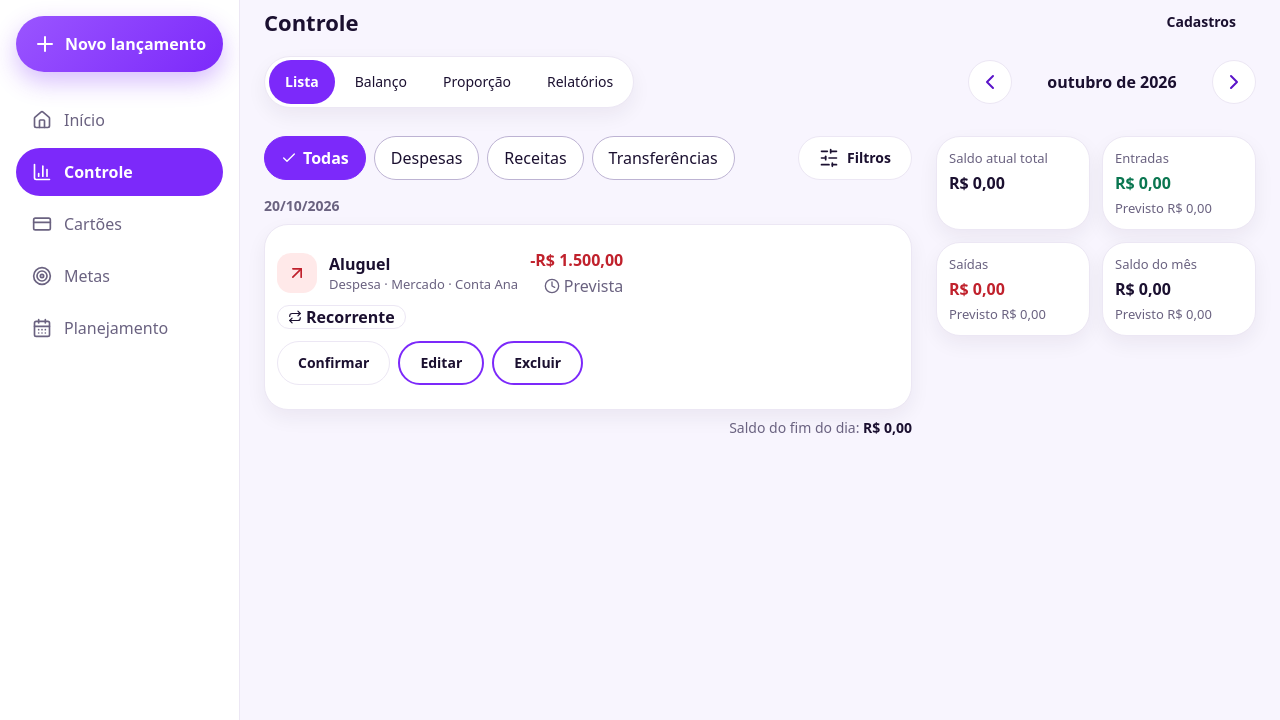
it: troca de sheets: diálogo de alcance -> formulário (histórico real) › Esc fecha o formulário depois da troca de sheets
expect the text "Aluguel" is shown: met, box 329,253 -> 390,275
Click the button "Editar" at (441, 363), box 398,341 -> 484,385
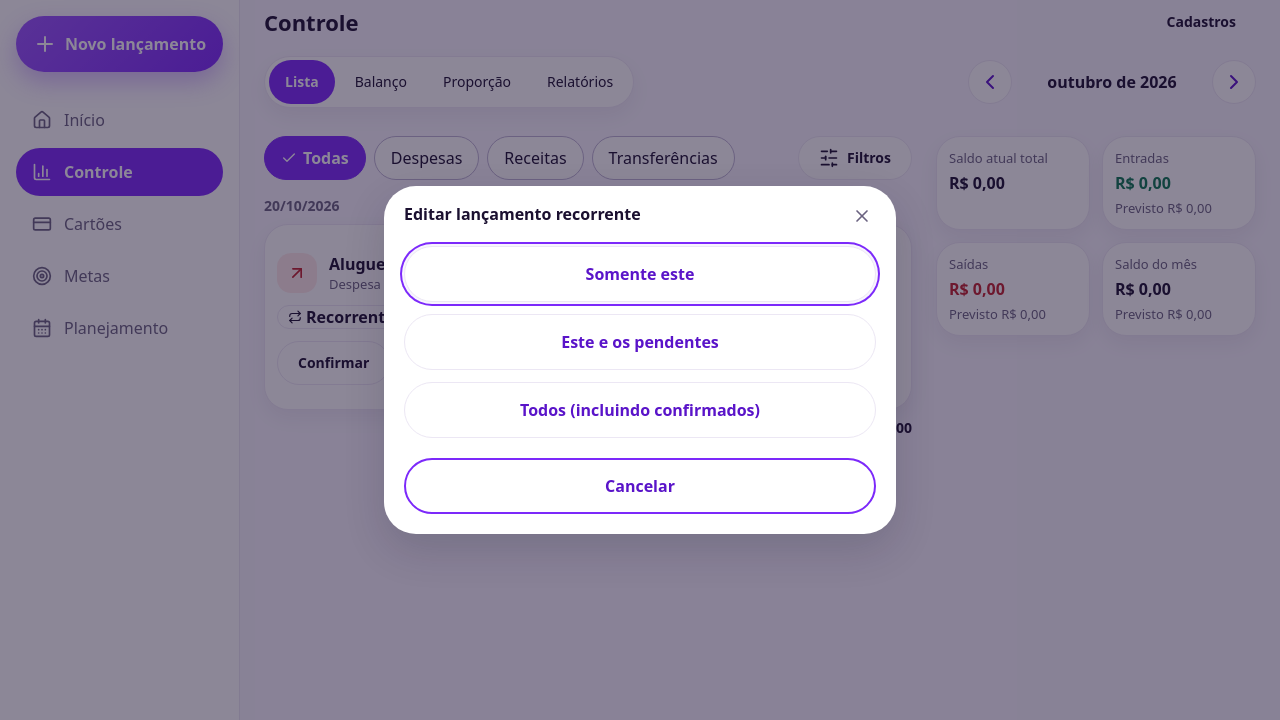
expect the dialog "Editar lançamento recorrente" is shown: met, box 384,186 -> 896,534
Click the button "Todos (incluindo confirmados)" at (640, 410), box 404,382 -> 876,438
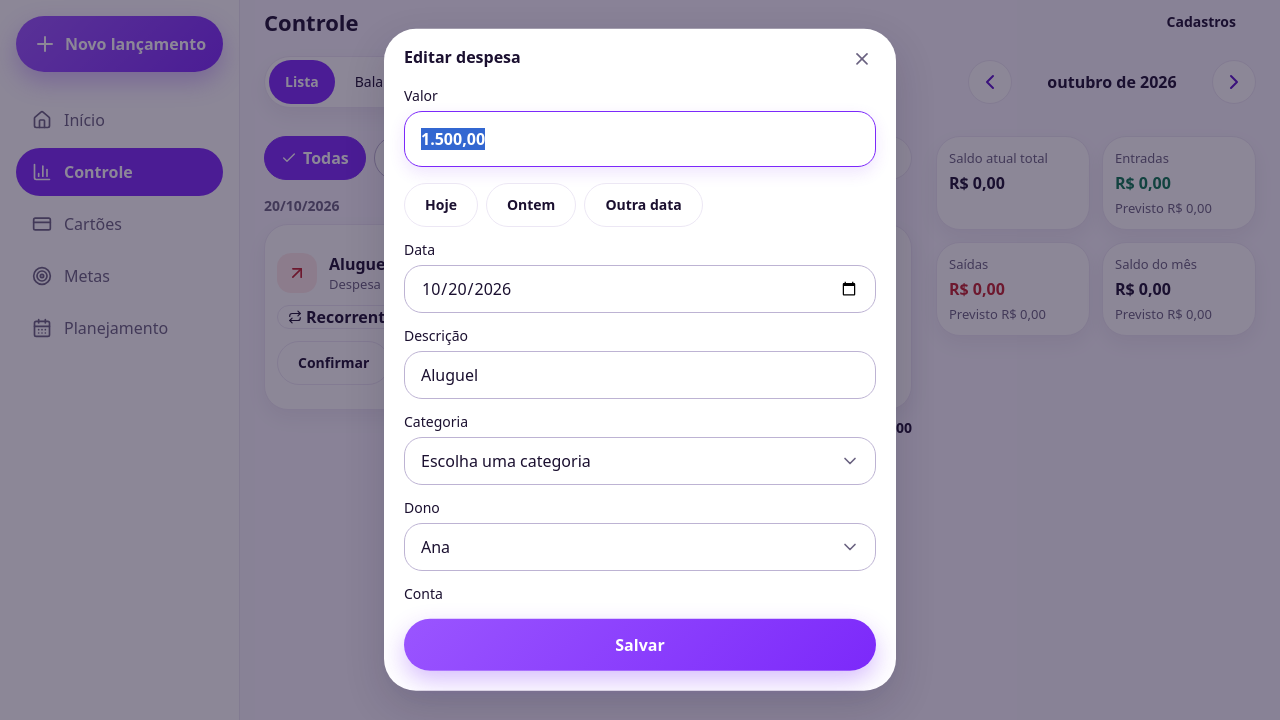
Press Escape
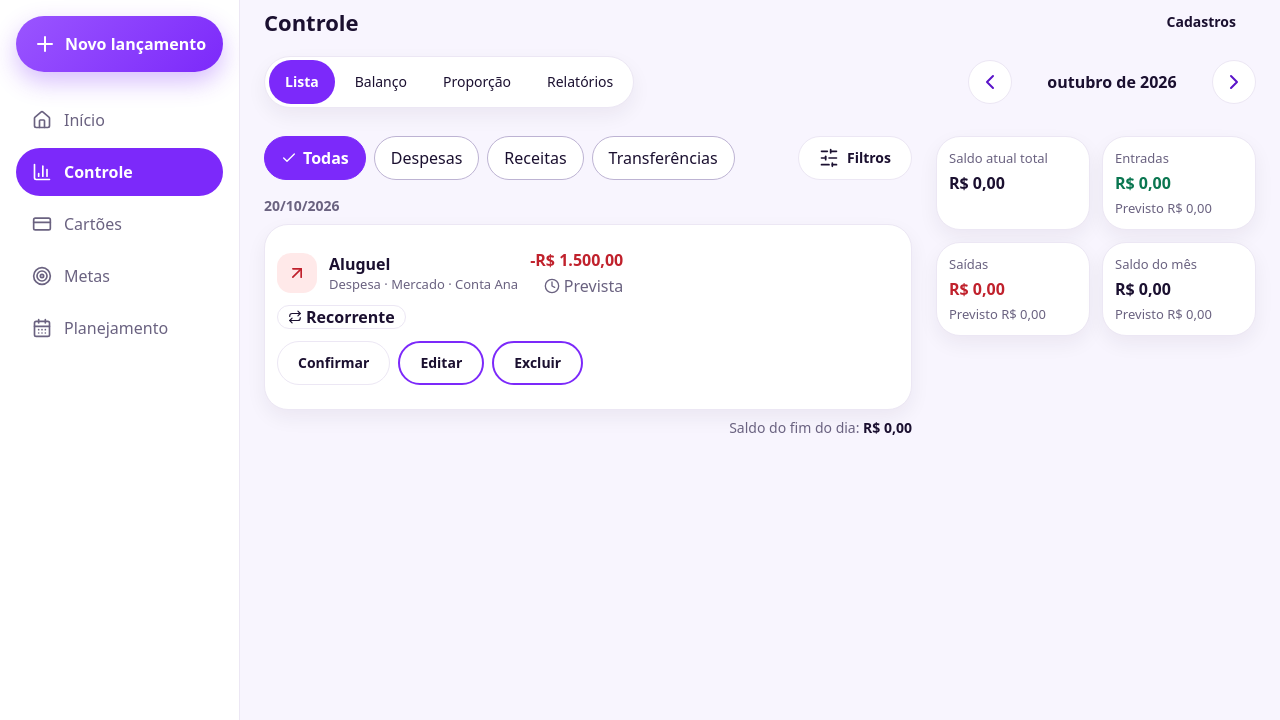
expect the heading "Controle" is shown: met, box 264,7 -> 358,37
expect the dialog is gone: met
